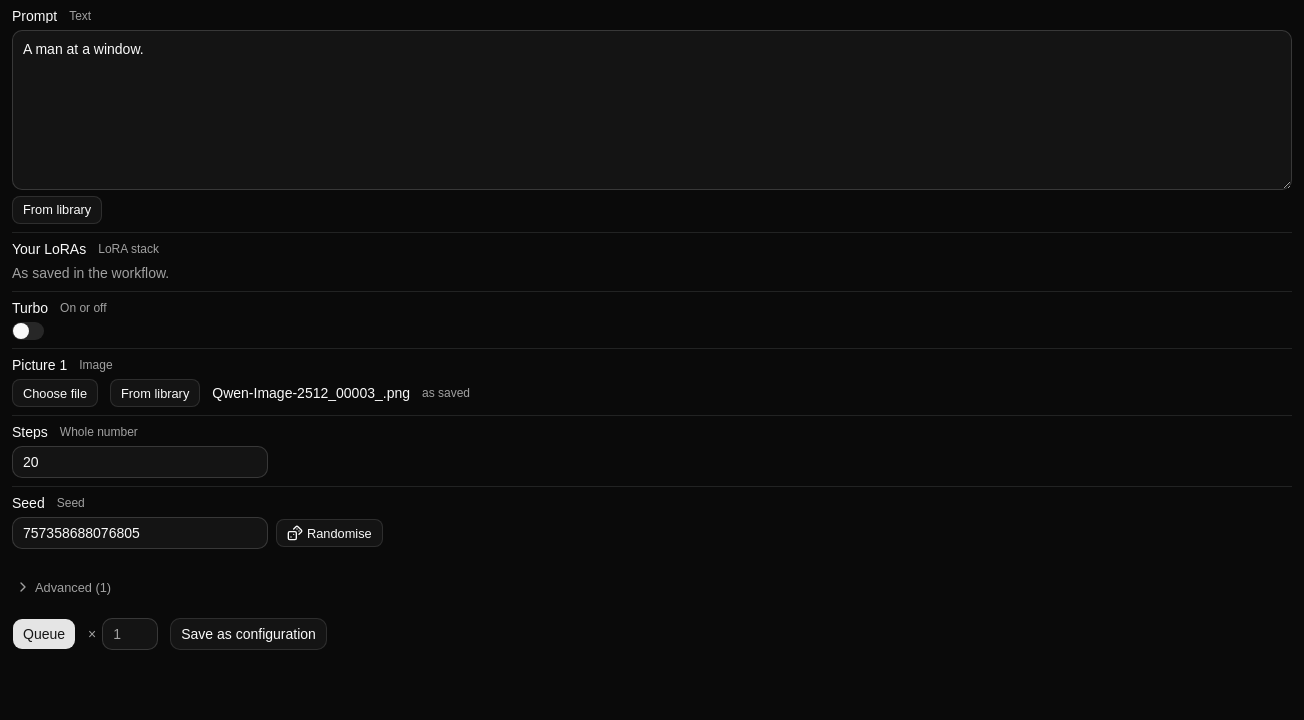
Test case: RunForm › puts a new seed in the field when asked to randomise
The width and height of the screenshot is (1304, 720).
Click the button "Randomise" at (329, 533), box [276, 519, 383, 547]
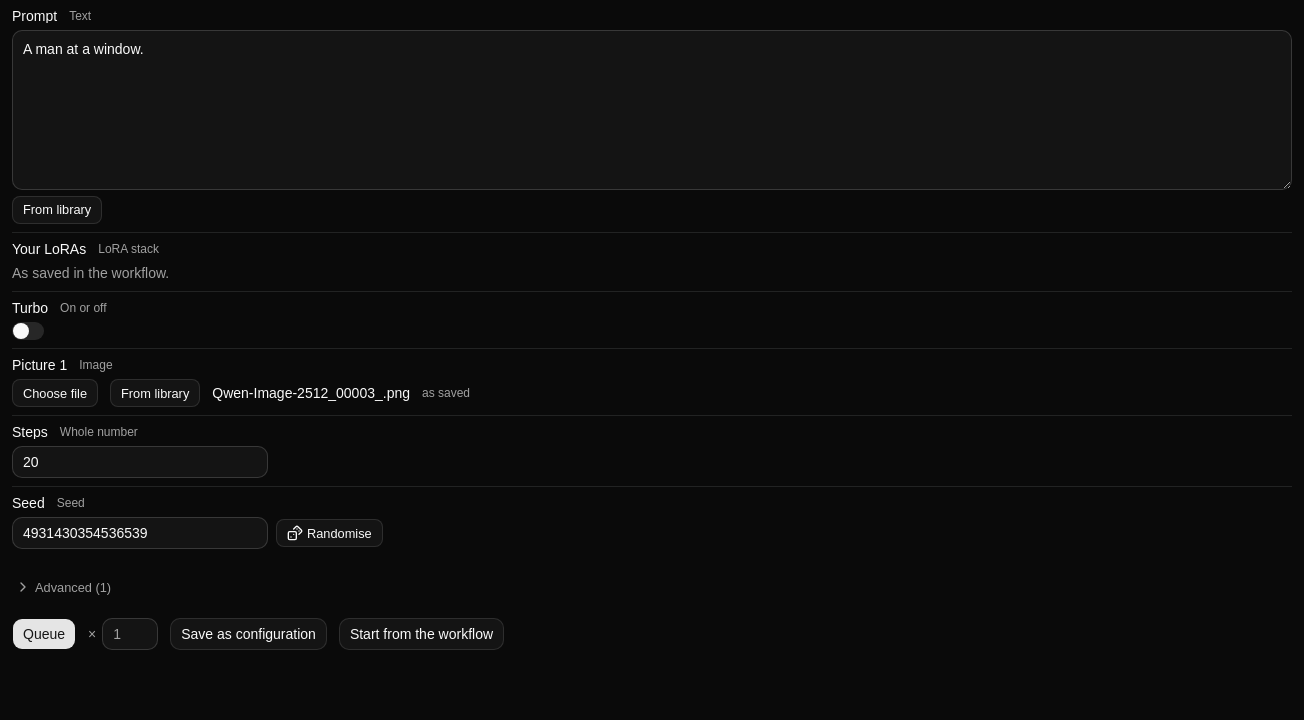
Expected: the field labelled "Seed" does not hold "757358688076805", [12, 517, 268, 549]
